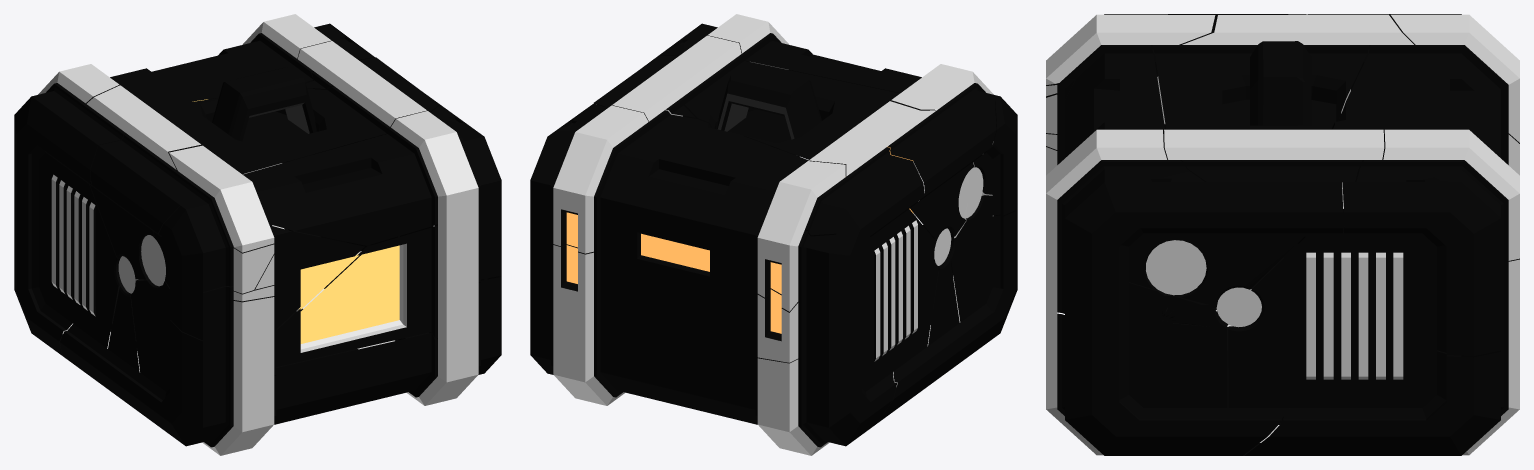
Rendered from Fracture_Crate.fbx.
3 renders of one model, left to right at view 1: azimuth 30°, elevation 25°; view 2: azimuth 150°, elevation 25°; view 3: azimuth 270°, elevation 25°, orthographic. The views are drawn at different scales.
Parts seen in each view (by area): view 1: crate_cell.005, crate.001_cell.010, crate.002_cell.002, crate.001_cell.013, crate.001_cell.012, crate.001_cell.006, crate.001_cell.008, crate.005_cell.006, crate.001_cell, crate_cell.004, crate.003, crate.002_cell.001 (+19 smaller); view 2: crate_cell.004, crate_cell.005, crate.001_cell.006, crate.001_cell.008, crate.002_cell.007, crate.005_cell.006, crate.002_cell.003, crate.002_cell, crate.006_cell.003, crate.001_cell.003, crate.003, crate.002_cell.004 (+18 smaller); view 3: crate.005_cell.002, crate.007_cell.001, crate_cell.005, crate.005_cell.001, crate.005_cell, crate_cell.004, crate.004, crate.007_cell.002, crate.002_cell.004, crate.002_cell.002, crate.007_cell, crate.001_cell.005 (+11 smaller).
Boxes of the visible parts, left/top/right/bottom form: crate_cell.005: left=151, top=67, right=390, bottom=174; crate.001_cell.010: left=274, top=225, right=437, bottom=374; crate.002_cell.002: left=391, top=111, right=478, bottom=405; crate.001_cell.013: left=255, top=148, right=437, bottom=245; crate.001_cell.012: left=110, top=247, right=437, bottom=424; crate.001_cell.006: left=14, top=96, right=97, bottom=355; crate.001_cell.008: left=60, top=320, right=202, bottom=445; crate.005_cell.006: left=39, top=152, right=122, bottom=348; crate.001_cell: left=62, top=296, right=274, bottom=455; crate_cell.004: left=86, top=33, right=313, bottom=258; crate.003: left=51, top=174, right=165, bottom=316; crate.002_cell.001: left=99, top=134, right=233, bottom=291; crate_cell.004: left=594, top=110, right=808, bottom=415; crate_cell.005: left=684, top=53, right=899, bottom=159; crate.001_cell.006: left=829, top=161, right=924, bottom=445; crate.001_cell.008: left=878, top=204, right=1017, bottom=422; crate.002_cell.007: left=798, top=231, right=845, bottom=447; crate.005_cell.006: left=862, top=209, right=938, bottom=391; crate.002_cell.003: left=553, top=105, right=648, bottom=253; crate.002_cell: left=553, top=244, right=624, bottom=405; crate.006_cell.003: left=530, top=103, right=607, bottom=374; crate.001_cell.003: left=757, top=161, right=845, bottom=311; crate.003: left=874, top=167, right=983, bottom=361; crate.002_cell.004: left=612, top=35, right=741, bottom=121; crate.005_cell.002: left=1065, top=182, right=1343, bottom=455; crate.007_cell.001: left=1228, top=233, right=1436, bottom=407; crate_cell.005: left=1152, top=41, right=1369, bottom=129; crate.005_cell.001: left=1342, top=182, right=1500, bottom=355; crate.005_cell: left=1244, top=351, right=1500, bottom=455; crate_cell.004: left=1333, top=45, right=1508, bottom=164; crate.004: left=1146, top=240, right=1403, bottom=379; crate.007_cell.002: left=1129, top=283, right=1228, bottom=407; crate.002_cell.004: left=1164, top=129, right=1384, bottom=159; crate.002_cell.002: left=1046, top=129, right=1167, bottom=455; crate.007_cell: left=1129, top=233, right=1307, bottom=307; crate.001_cell.005: left=1182, top=14, right=1413, bottom=44.
Size of the model in its own units: 76.41 by 66.21 by 85.46.
